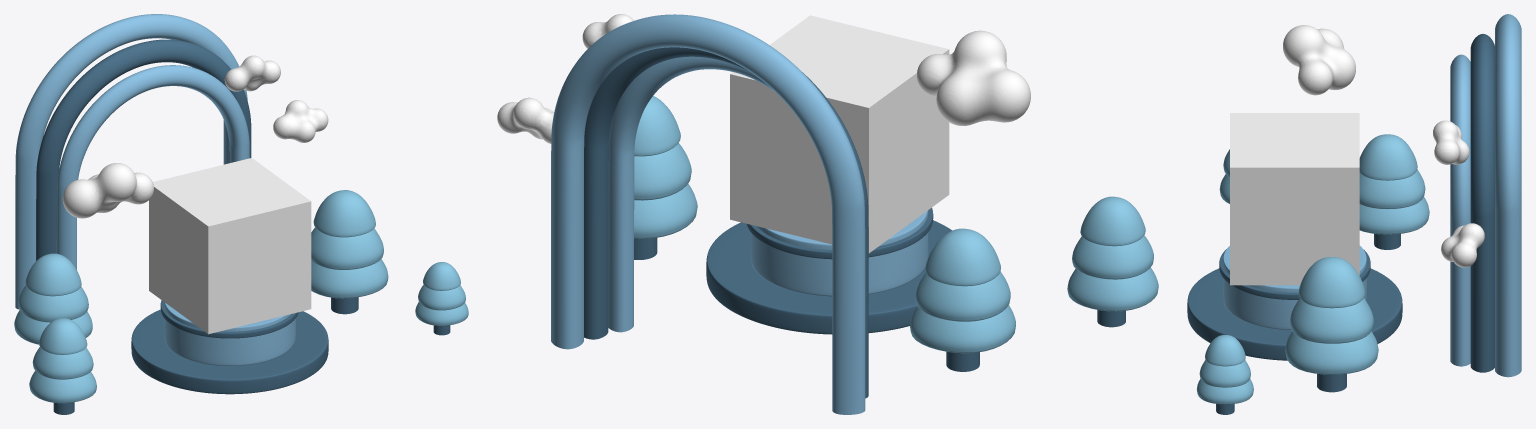
File: podium_gate_blue.glb
3 views of the same model, side by side, from view 1: azimuth 30°, elevation 25°; view 2: azimuth 150°, elevation 25°; view 3: azimuth 270°, elevation 25° (orthographic). The views are drawn at different scales.
Visible parts, largest first — view 1: placeholder, Torus005, Torus006, Cylinder015, Torus004, Mball, Cylinder016, Cube007, Cube006, Cube008, Cube009, Cube010 (+9 smaller); view 2: placeholder, Torus005, Mball, Torus006, Cylinder015, Torus004, Cylinder016, Cube011, Cube010, Cube009, Cube020, Cube019 (+6 smaller); view 3: placeholder, Torus005, Torus006, Mball, Cylinder015, Torus004, Cube007, Cube008, Cylinder016, Cube006, Cube009, Cube010 (+7 smaller).
Boxes of the visible parts, x1,y1,x2,y2 form: placeholder: (149,158,311,334); Torus005: (15,14,247,309); Torus006: (36,39,251,260); Cylinder015: (131,309,328,394); Torus004: (56,65,249,269); Mball: (62,55,328,218); Cylinder016: (164,302,295,365); Cube007: (311,227,383,269); Cube006: (313,190,375,237); Cube008: (311,259,388,298); Cube009: (25,253,81,296); Cube010: (18,285,88,322); placeholder: (730,15,949,253); Torus005: (551,14,865,414); Mball: (497,14,1030,143); Torus006: (584,47,868,398); Cylinder015: (706,220,951,334); Torus004: (608,56,774,332); Cylinder016: (750,210,928,296); Cube011: (910,305,1015,353); Cube010: (915,271,1010,321); Cube009: (925,228,1000,286); Cube020: (1067,267,1158,311); Cube019: (1072,235,1153,279); placeholder: (1230,113,1359,285); Torus005: (1495,14,1521,377); Torus006: (1470,34,1494,372); Mball: (1283,25,1484,267); Cylinder015: (1187,268,1402,360); Torus004: (1450,54,1470,366); Cube007: (1290,298,1373,343); Cube008: (1285,331,1378,374); Cylinder016: (1223,245,1366,329); Cube006: (1298,257,1365,308); Cube009: (1359,134,1417,180); Cube010: (1359,169,1425,209).
Size of the model in its own units: 3 by 1.82 by 1.91.
